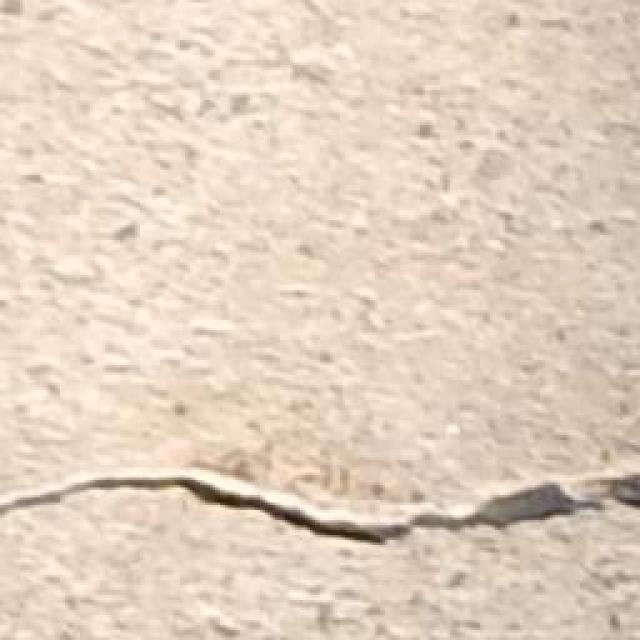concrete-crack: (0, 472, 640, 550)
